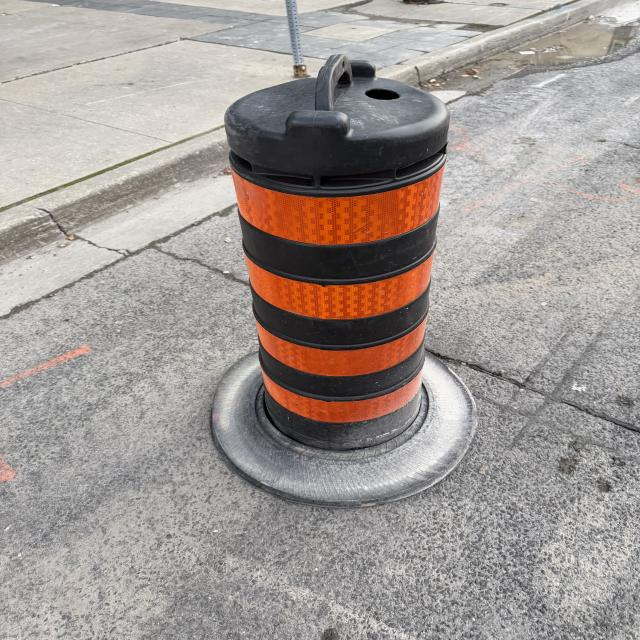Teraffic Barrel: (213, 55, 475, 506)
